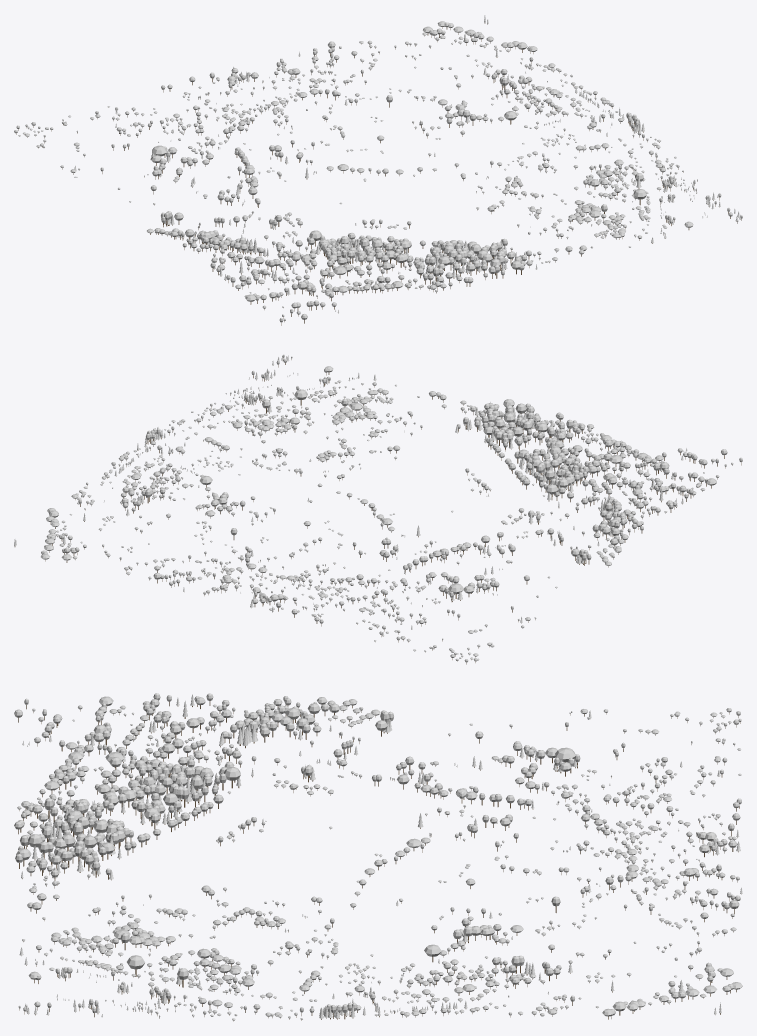
Rendered from stromy.glb.
3 renders of one model, top to bottom at view 1: azimuth 30°, elevation 25°; view 2: azimuth 150°, elevation 25°; view 3: azimuth 270°, elevation 25°, orthographic. The views are drawn at different scales.
Parts seen in each view (by area): view 1: Stromy_Listnate_04_07, Stromy_Ihlicnate_04_07; view 2: Stromy_Listnate_04_07, Stromy_Ihlicnate_04_07; view 3: Stromy_Listnate_04_07, Stromy_Ihlicnate_04_07.
Part boxes in pixels (x1,y1,x2,y2): Stromy_Listnate_04_07: [14, 21, 742, 325]; Stromy_Ihlicnate_04_07: [74, 15, 741, 313]; Stromy_Listnate_04_07: [41, 354, 742, 664]; Stromy_Ihlicnate_04_07: [14, 355, 687, 636]; Stromy_Listnate_04_07: [14, 693, 742, 1021]; Stromy_Ihlicnate_04_07: [19, 694, 742, 1019].
Bounding box in the file's own units: 1014 × 48.14 × 1007.
